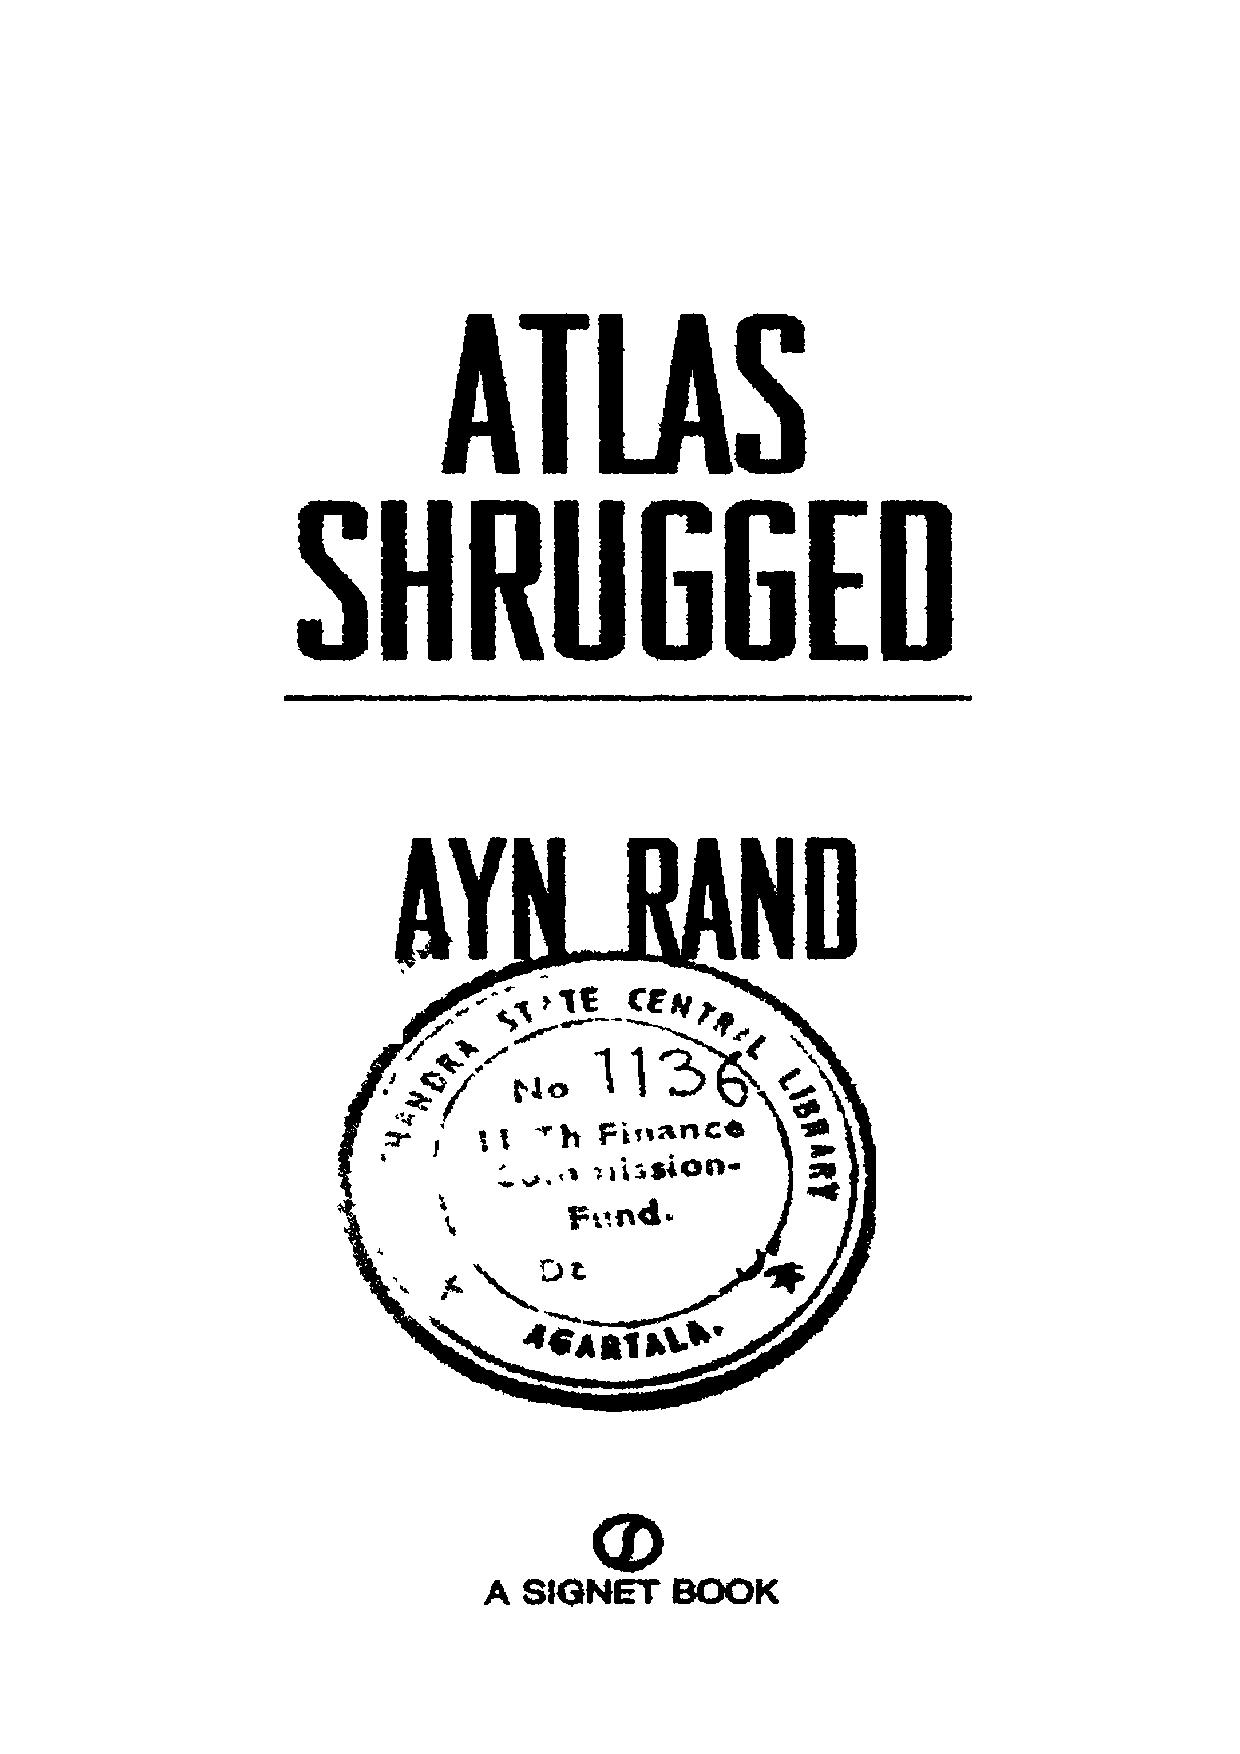author: (389, 832, 863, 965)
title: (290, 307, 958, 668)
